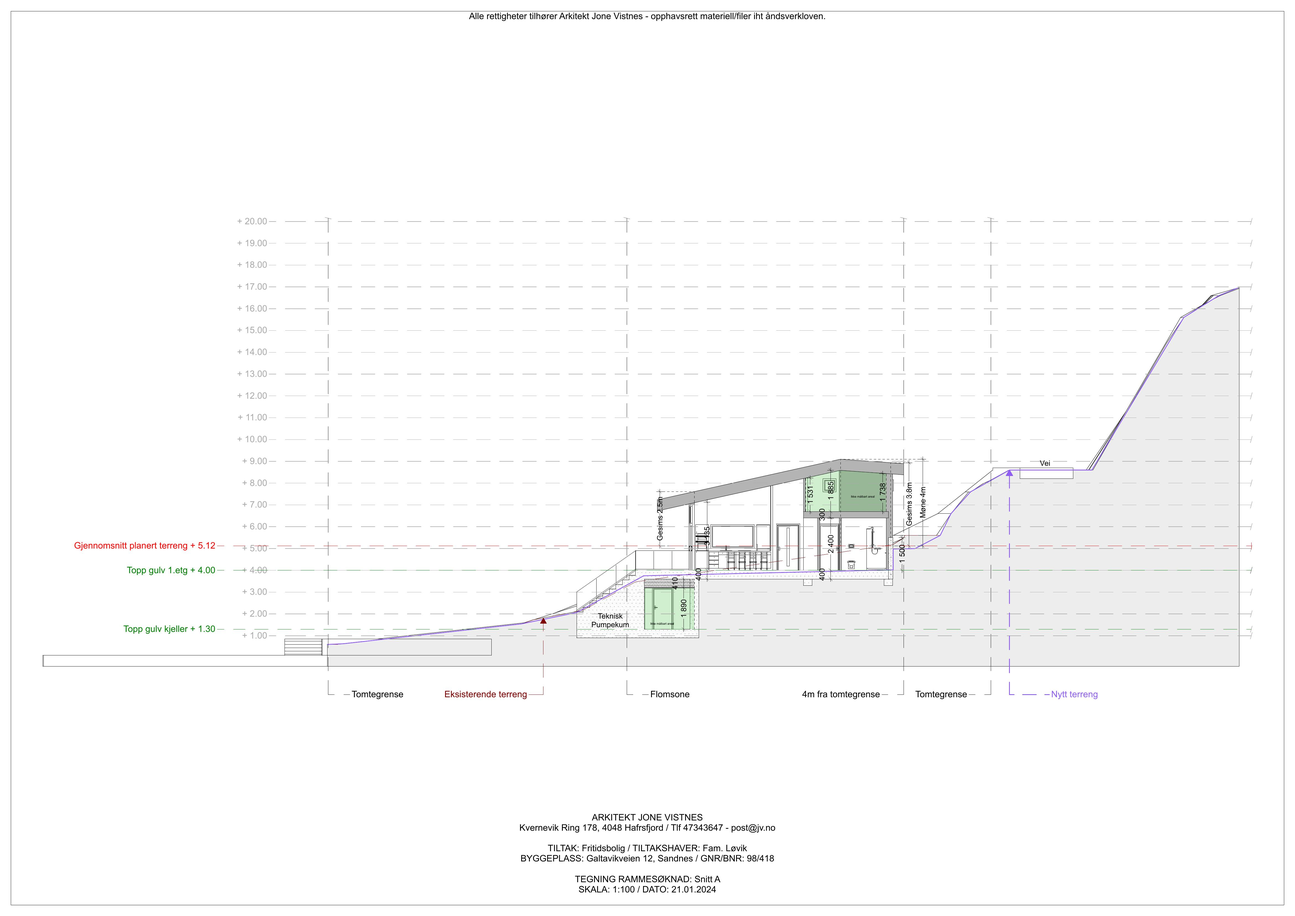snitt: (575, 457, 929, 674)
